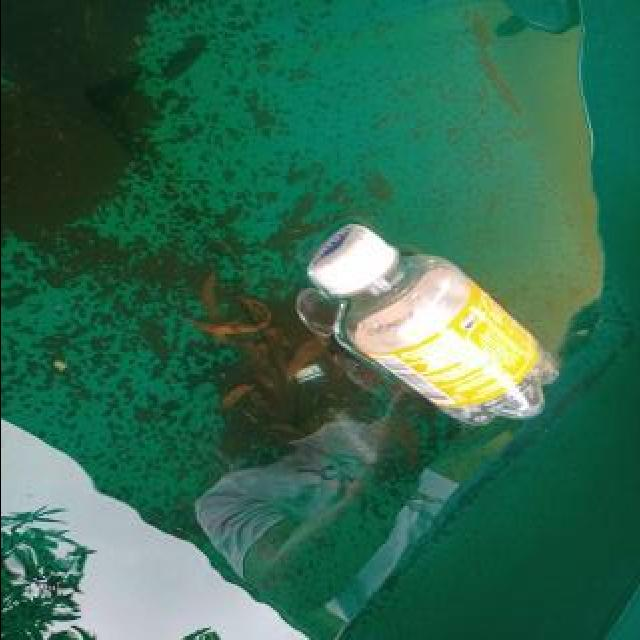Bottle: (298, 213, 568, 433)
